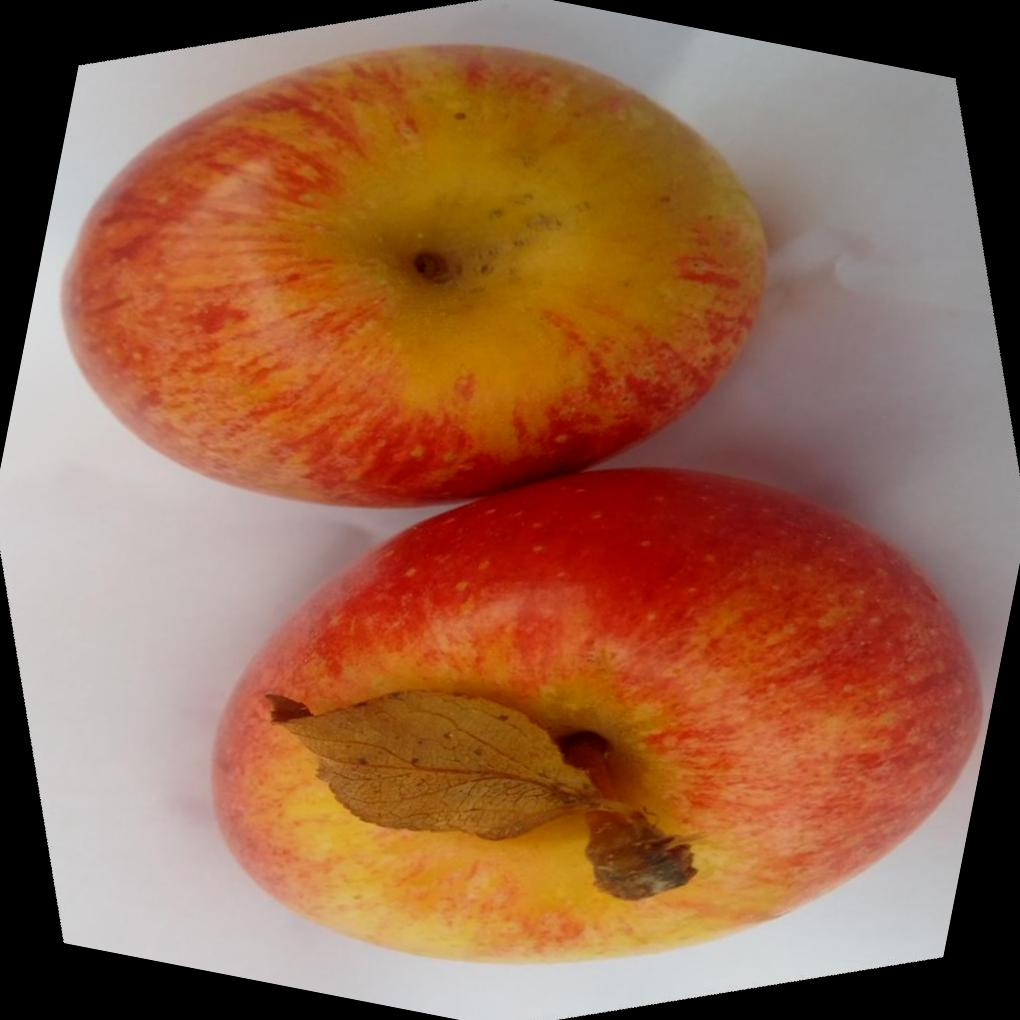FreshGuava: (56, 37, 984, 963)
